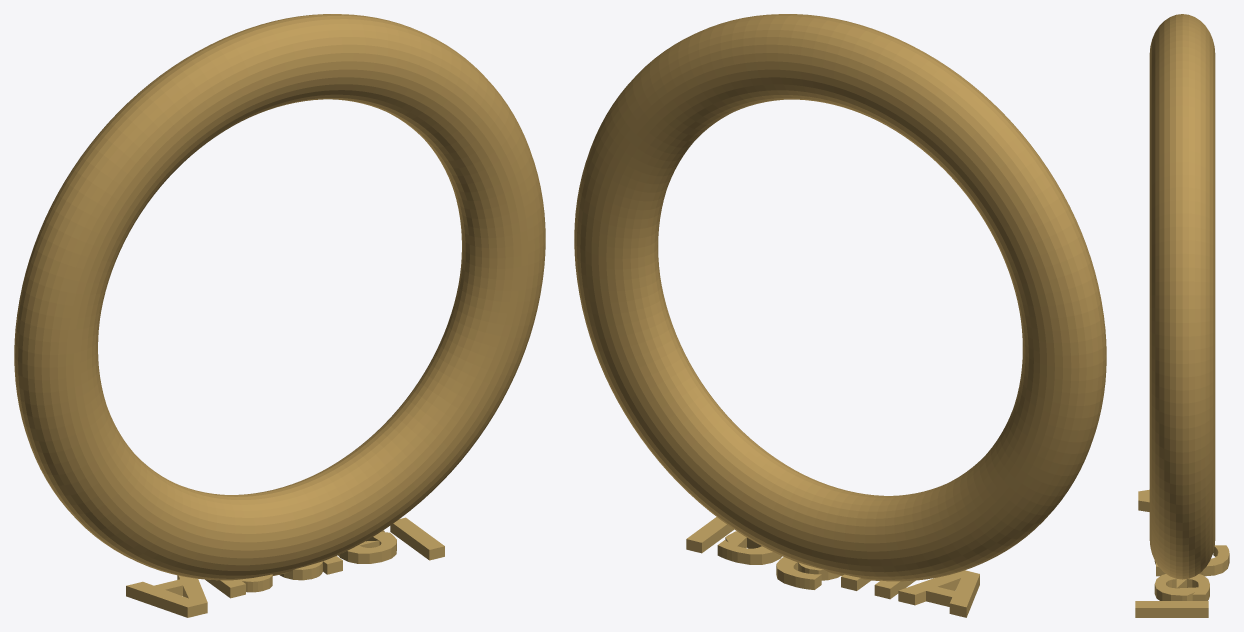
File: Angel_Ring_Gold.glb
3 renders of one model, left to right at view 1: azimuth 30°, elevation 25°; view 2: azimuth 150°, elevation 25°; view 3: azimuth 270°, elevation 25°, orthographic. The views are drawn at different scales.
Parts seen in each view (by area): view 1: Angel_ring; view 2: Angel_ring; view 3: Angel_ring.
Boxes of the visible parts, left/top/right/bottom form: Angel_ring: left=14, top=14, right=545, bottom=617; Angel_ring: left=574, top=14, right=1106, bottom=617; Angel_ring: left=1135, top=14, right=1229, bottom=617.
Size of the model in its own units: 2.34 by 2.34 by 0.3892.
